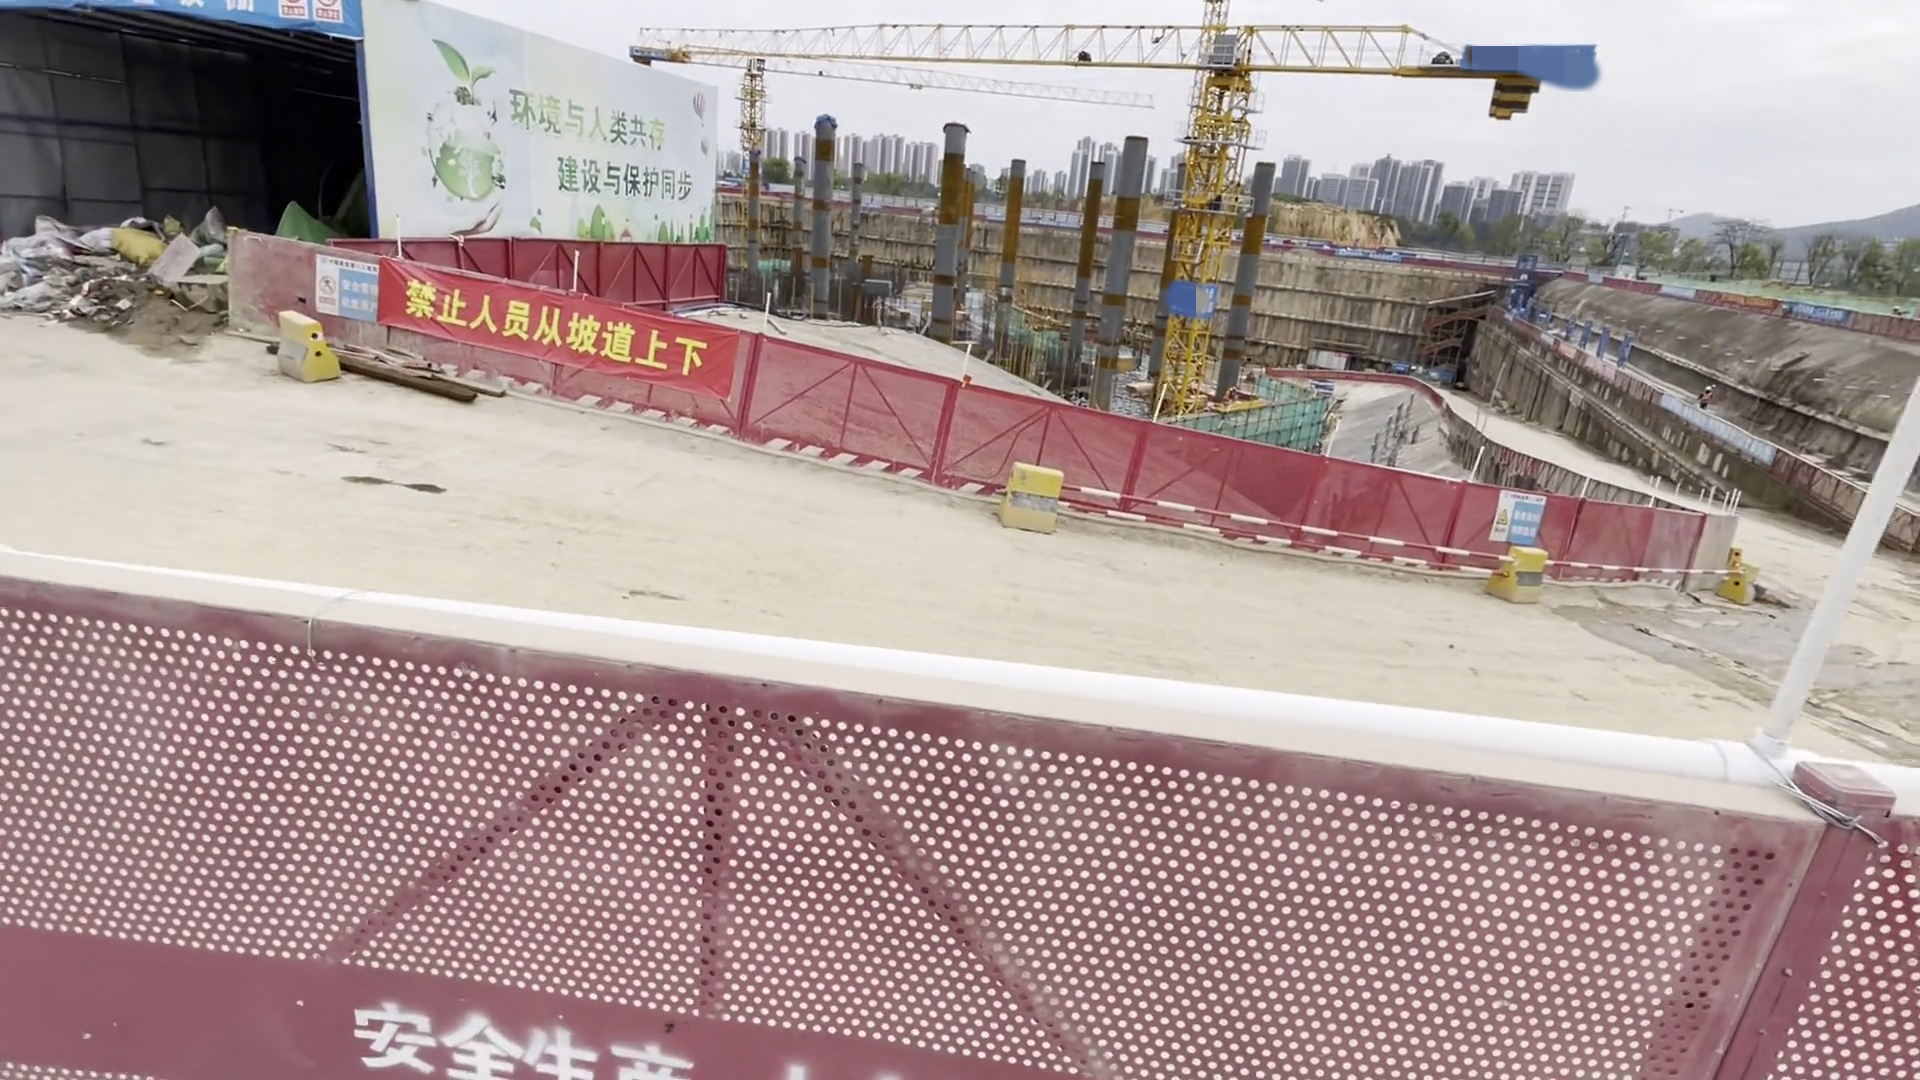fence: (3, 551, 1920, 1079)
slogan: (417, 44, 712, 251), (380, 268, 760, 400)
